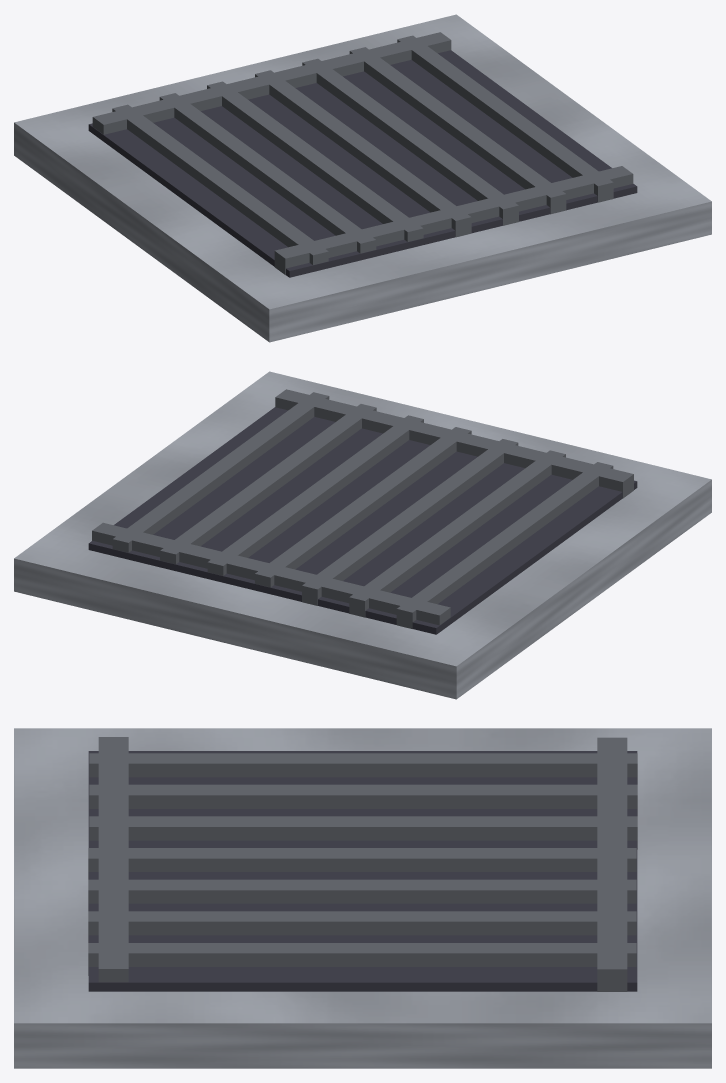
File: vampire-crypt-and-gothic-cathedral-crypt-drain-2a8bc4f0__22989.glb
The picture shows the model from 3 angles, top to bottom: view 1: azimuth 30°, elevation 25°; view 2: azimuth 150°, elevation 25°; view 3: azimuth 270°, elevation 25°; orthographic projection. The views are drawn at different scales.
Parts seen in each view (by area): view 1: crypt-drain; view 2: crypt-drain; view 3: crypt-drain.
Boxes of the visible parts, <box> form: crypt-drain: <box>14,14,711,342</box>; crypt-drain: <box>14,371,711,699</box>; crypt-drain: <box>14,728,711,1068</box>.
Bounding box in the file's own units: 1.4 × 0.15 × 1.4.
Materials: 3 (1 with a texture image).
